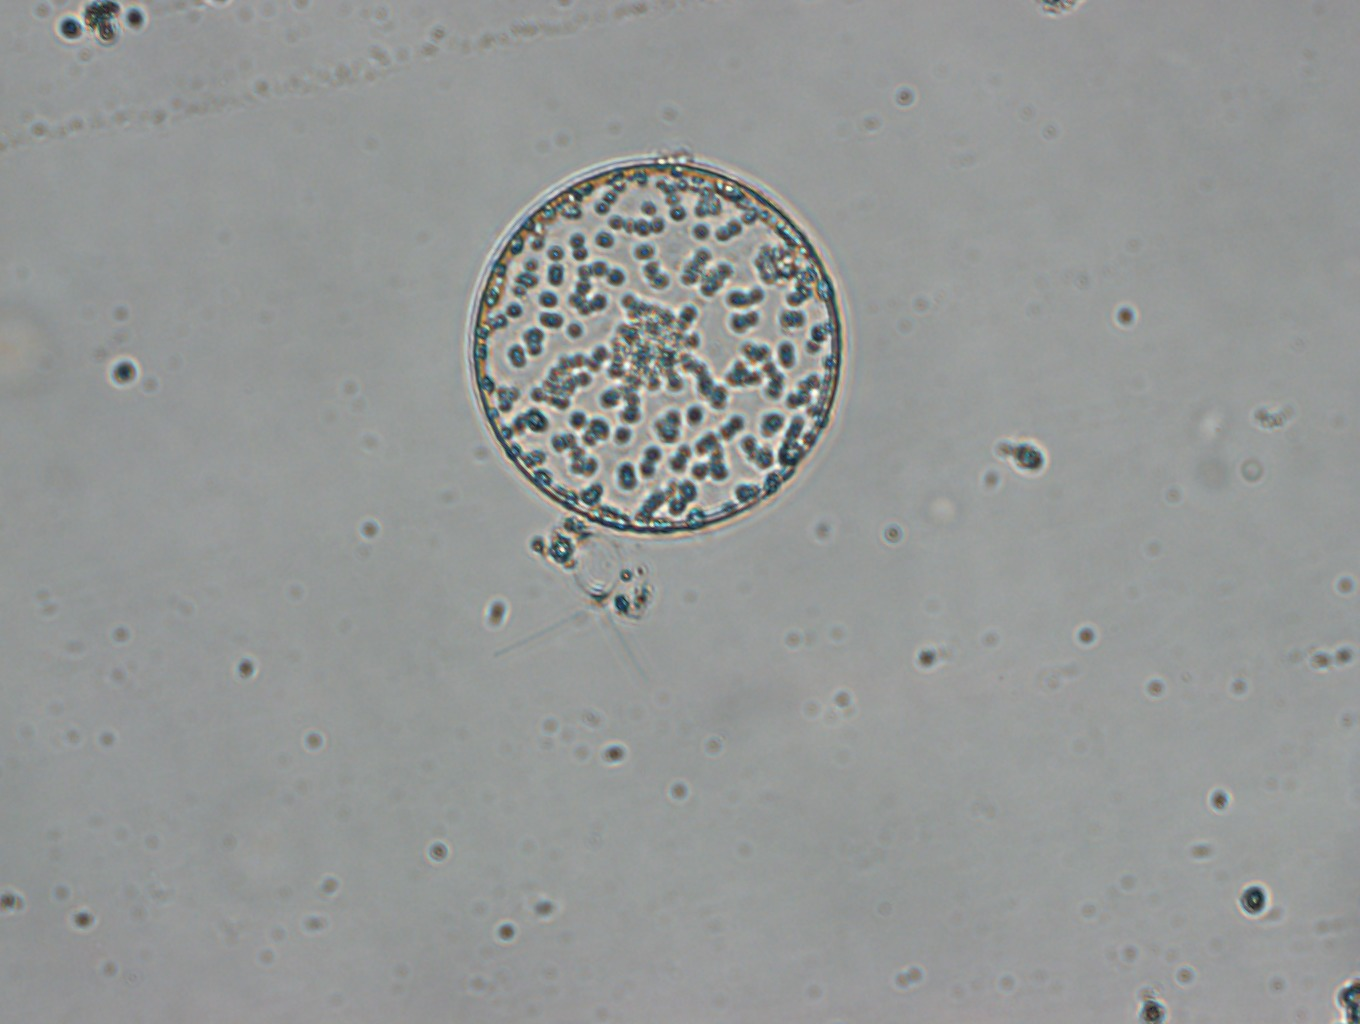coscinodiscus: (466, 161, 846, 535)
